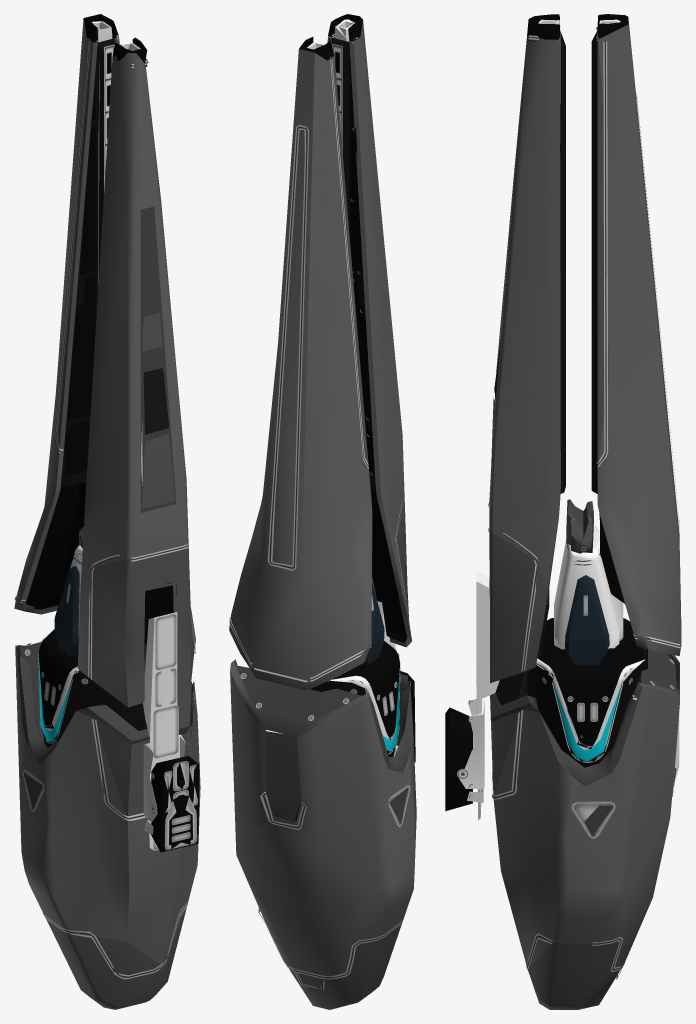
The model's file is dr-model-xj3-repeater.glb.
The picture shows the model from 3 angles, left to right: view 1: azimuth 30°, elevation 25°; view 2: azimuth 150°, elevation 25°; view 3: azimuth 270°, elevation 25°; orthographic projection. The views are drawn at different scales.
Parts seen in each view (by area): view 1: barrel_02, core, barrel_01, ven_1, mec_1, pow_1; view 2: barrel_02, core, barrel_01, ven_1, mec_1; view 3: barrel_02, core, barrel_01, mec_1, ven_1, pow_1.
Boxes of the visible parts, left/top/right/bottom form: barrel_02: left=14, top=18, right=200, bottom=1009; core: left=14, top=14, right=199, bottom=979; barrel_01: left=16, top=206, right=194, bottom=809; ven_1: left=20, top=642, right=192, bottom=746; mec_1: left=38, top=566, right=79, bottom=731; pow_1: left=38, top=656, right=71, bottom=741; barrel_02: left=229, top=21, right=416, bottom=1009; core: left=229, top=14, right=415, bottom=989; barrel_01: left=265, top=680, right=413, bottom=824; ven_1: left=236, top=665, right=408, bottom=745; mec_1: left=330, top=581, right=400, bottom=740; barrel_02: left=489, top=18, right=681, bottom=1009; core: left=445, top=14, right=681, bottom=979; barrel_01: left=491, top=172, right=642, bottom=836; mec_1: left=536, top=529, right=644, bottom=749; ven_1: left=490, top=649, right=676, bottom=723; pow_1: left=553, top=684, right=621, bottom=761.
Bounding box in the file's own units: 0.682 × 4.04 × 0.8819.
16 materials, 5 textured.
